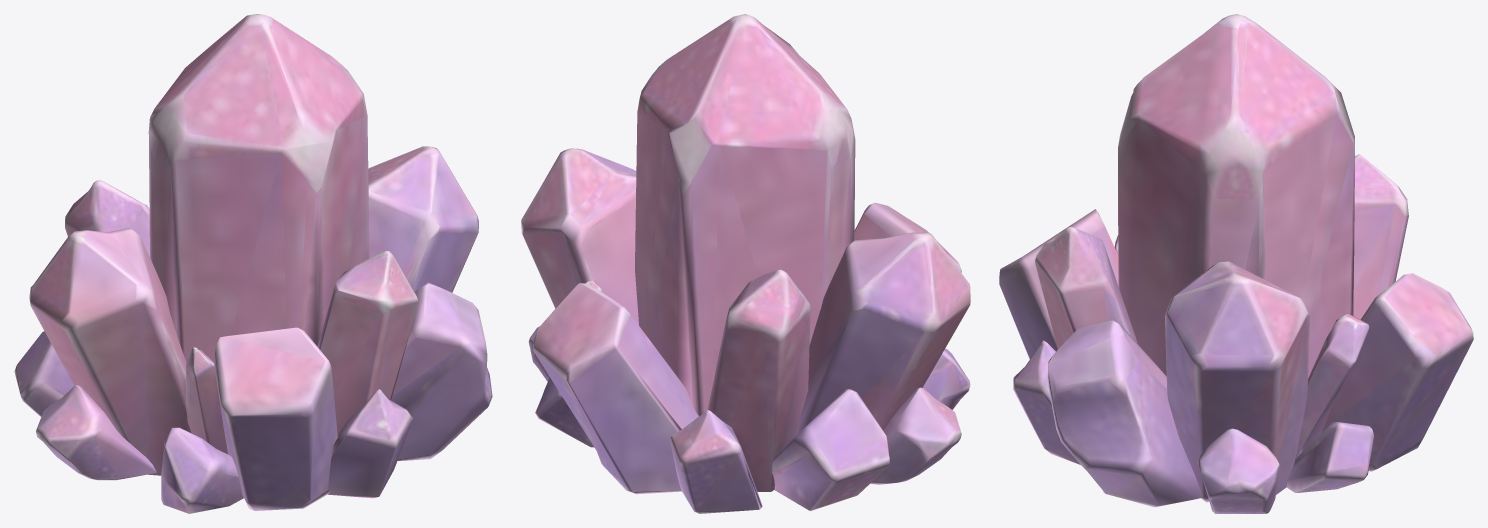
The model's file is item-sugar.glb.
3 renders of one model, left to right at view 1: azimuth 30°, elevation 25°; view 2: azimuth 150°, elevation 25°; view 3: azimuth 270°, elevation 25°, orthographic.
Size of the model in its own units: 0.958 by 0.9141 by 0.9263.
Materials: 1 (1 with a texture image).
